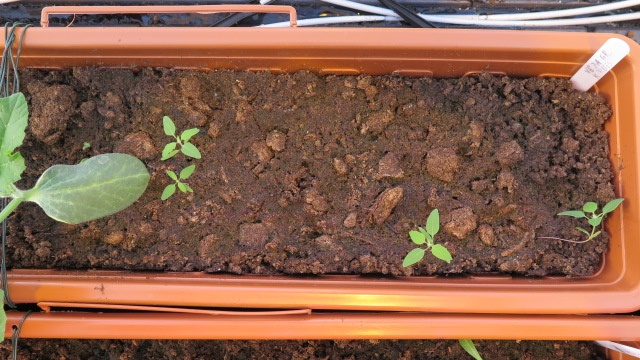weed: (399, 207, 455, 269), (158, 113, 206, 161), (156, 163, 200, 203)
